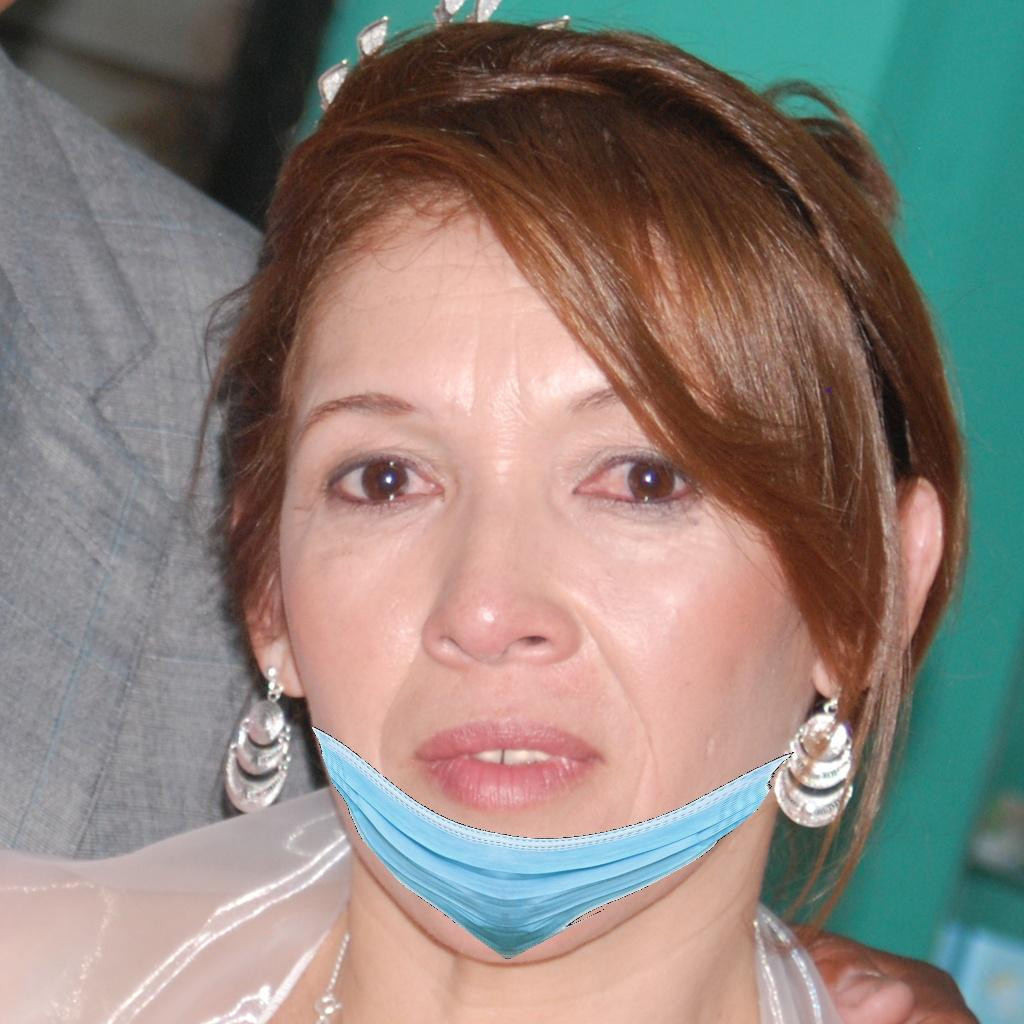Máscara Incorreta: (228, 275, 822, 967)
